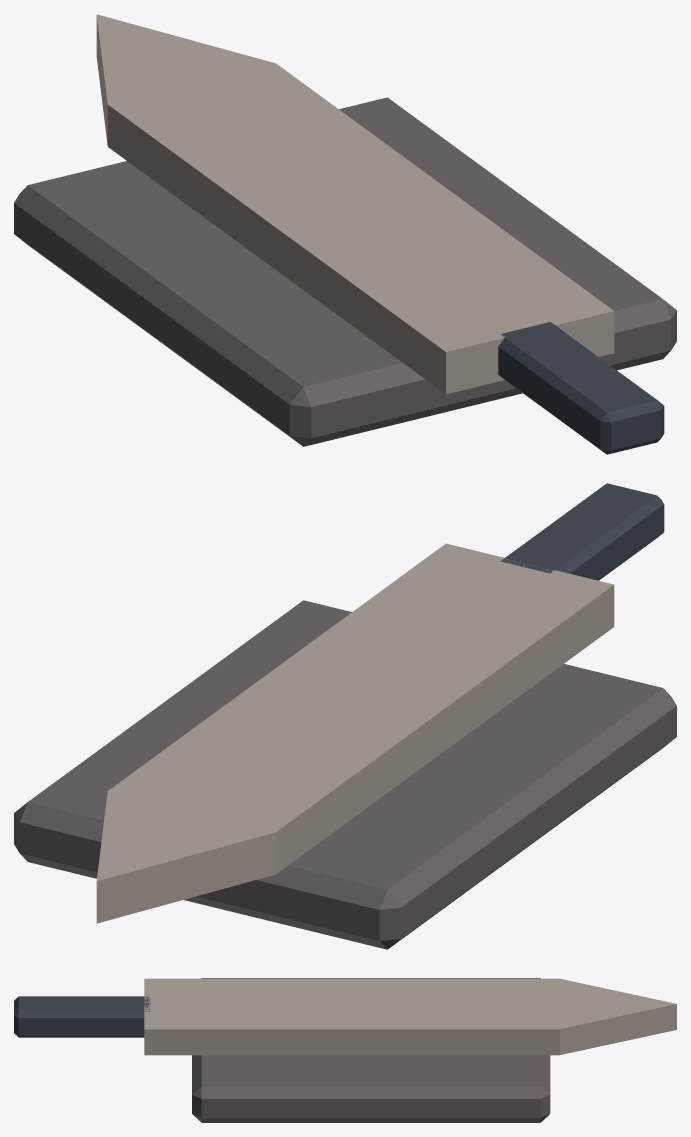
File: 12_Forged_Blade_Blank.glb
The picture shows the model from 3 angles, top to bottom: view 1: azimuth 30°, elevation 25°; view 2: azimuth 150°, elevation 25°; view 3: azimuth 270°, elevation 25°; orthographic projection. The views are drawn at different scales.
Visible parts, largest first — view 1: 12_Forged_Blade_Blank__Body; view 2: 12_Forged_Blade_Blank__Body; view 3: 12_Forged_Blade_Blank__Body.
Boxes of the visible parts, x1,y1,x2,y2 form: 12_Forged_Blade_Blank__Body: [14, 14, 676, 454]; 12_Forged_Blade_Blank__Body: [14, 483, 676, 949]; 12_Forged_Blade_Blank__Body: [14, 978, 676, 1122].
Size of the model in its own units: 1.15 by 0.3 by 2.77.
1 material, 1 textured.
